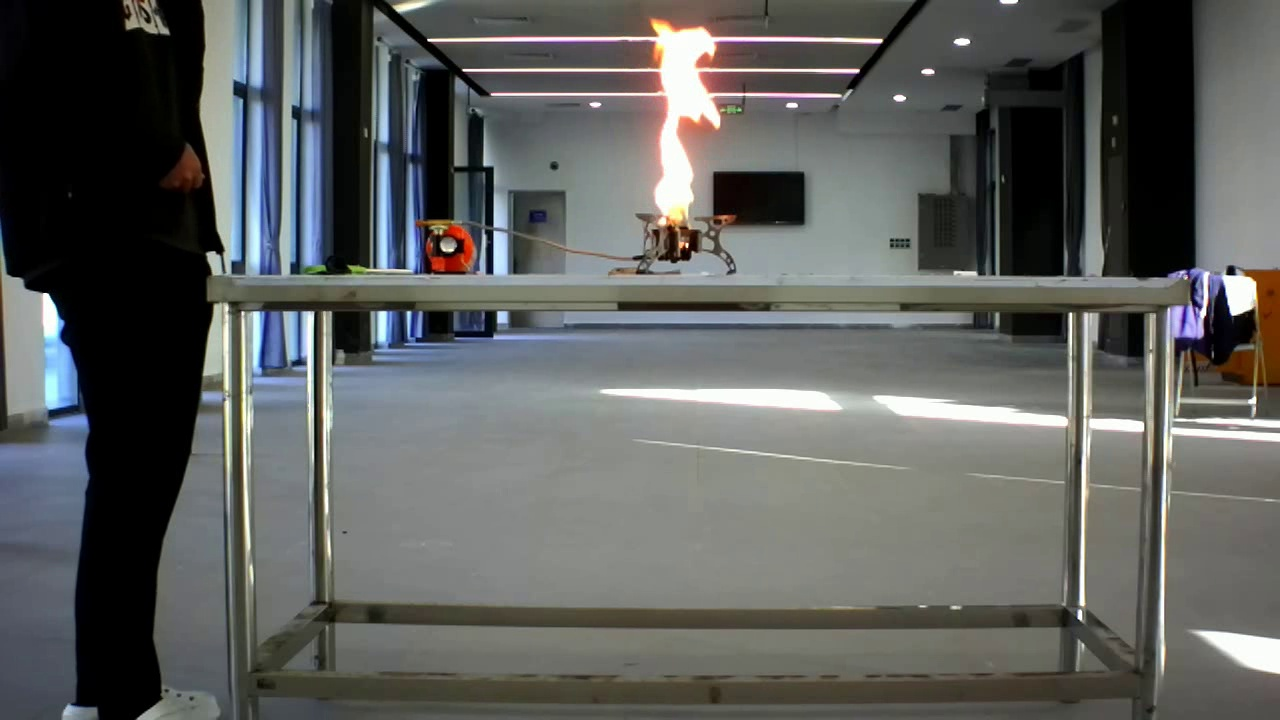Fire: (628, 8, 740, 260)
